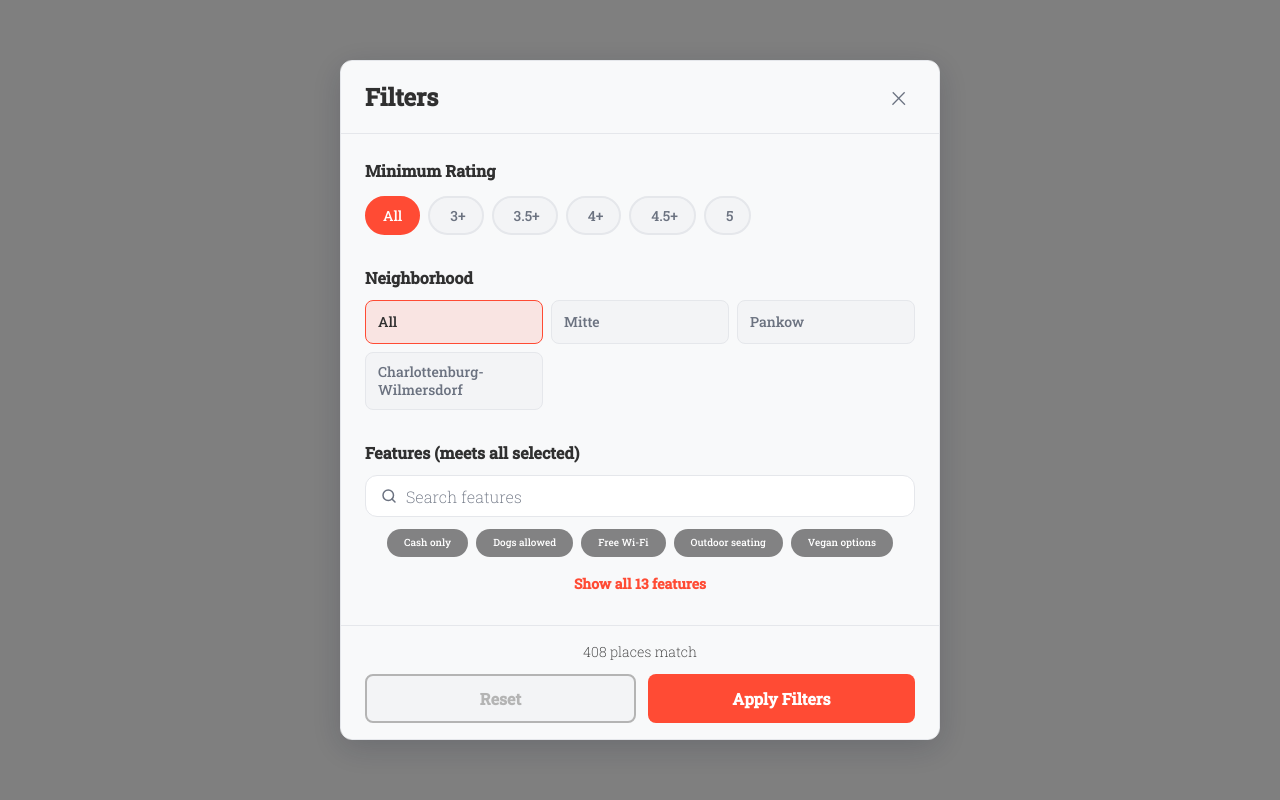
Test: FilterPanel › Live result count › updates the count after picking a Neighborhood, and says when nothing matches
Expected: the text "408 places match" is shown, [583,642,697,661]
Click the button "Mitte". click: (640, 322)
box: [551,300,729,344]
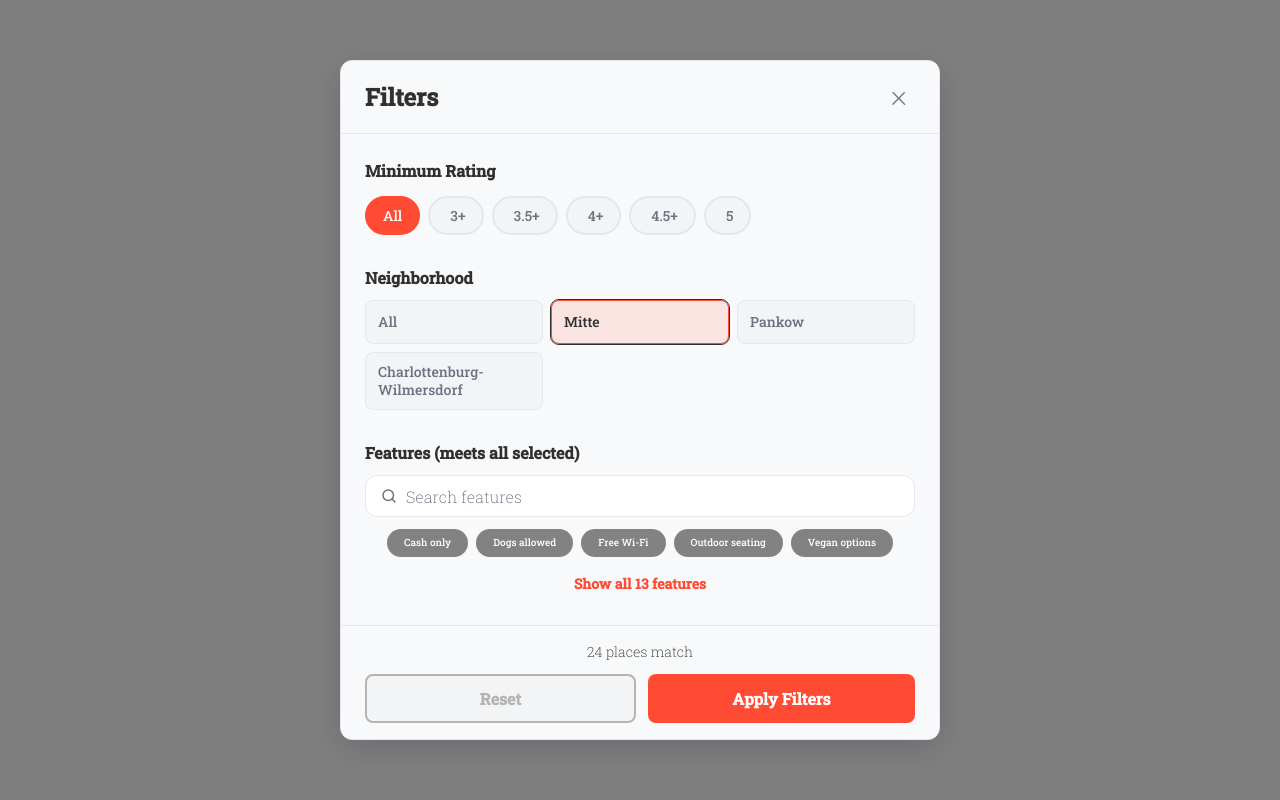
Now the text "24 places match" is shown, box [587,642,693,661]
Click the button "Dogs allowed". click: (525, 543)
box: [476,529,573,557]
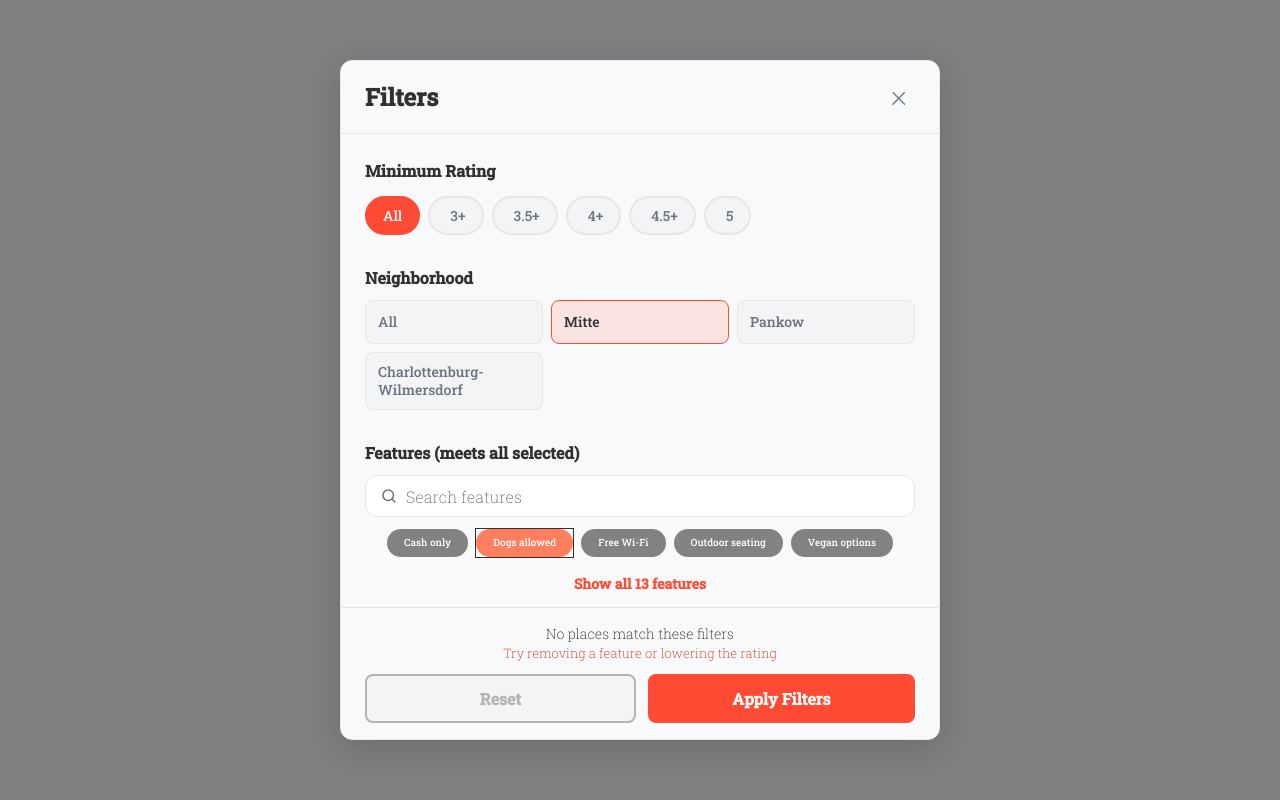
Now the text "No places match these filters" is shown, box [546,624,734,643]
Now the text "Try removing a feature or lowering the rating" is shown, box [503,644,777,662]
